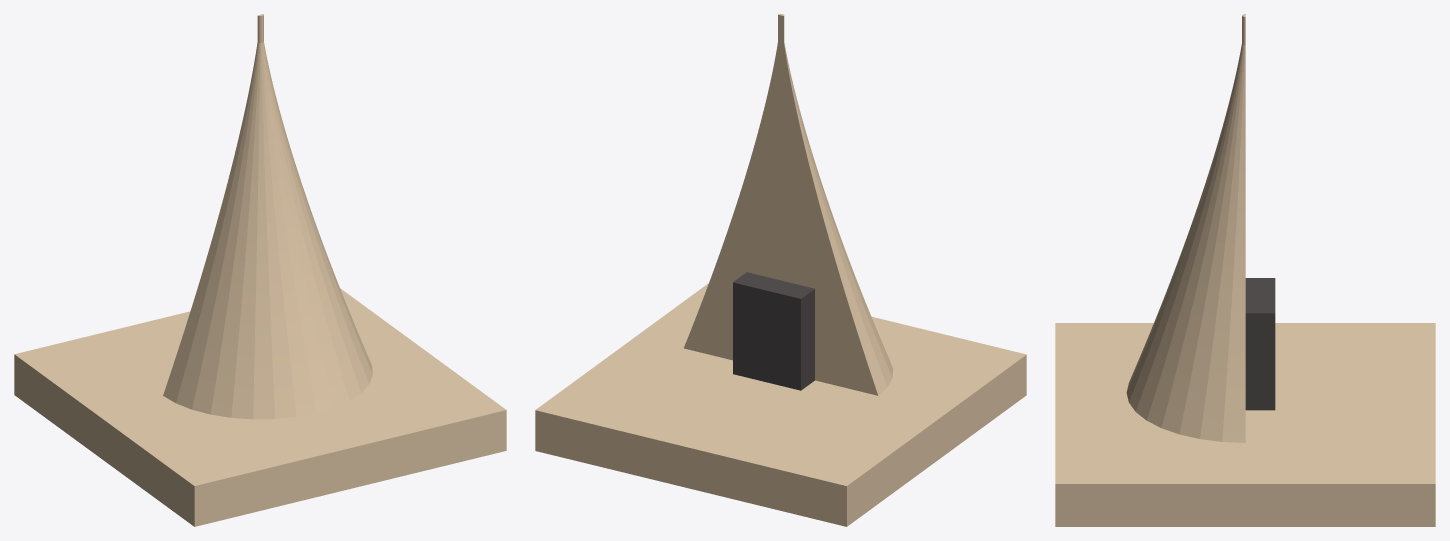
The model's file is nagara_cut.glb.
3 views of the same model, side by side, from view 1: azimuth 30°, elevation 25°; view 2: azimuth 150°, elevation 25°; view 3: azimuth 270°, elevation 25° (orthographic). The views are drawn at different scales.
Parts seen in each view (by area): view 1: nagara_cut; view 2: nagara_cut; view 3: nagara_cut.
Part boxes in pixels (<box>): nagara_cut: <box>14,14,506,526</box>; nagara_cut: <box>535,14,1026,526</box>; nagara_cut: <box>1055,14,1435,526</box>.
Bounding box in the file's own units: 8 × 10 × 8.
